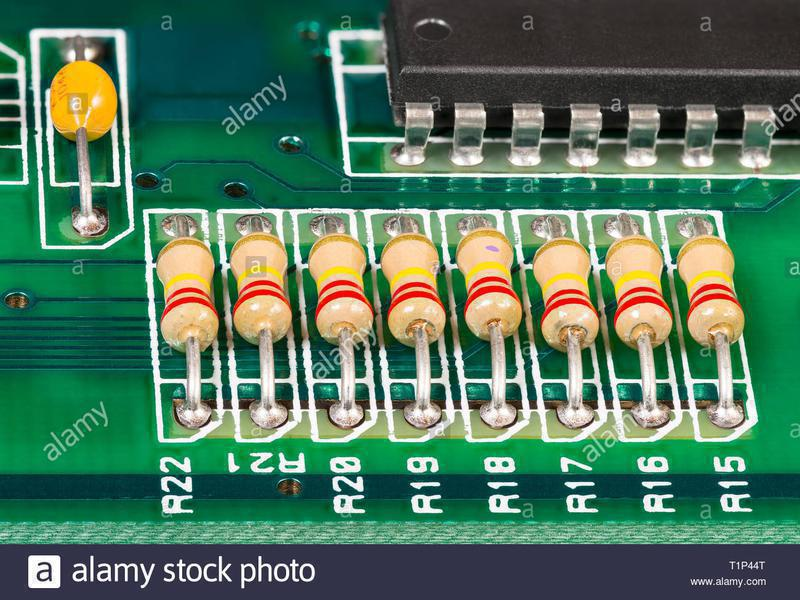resistor: (673, 233, 747, 349), (380, 226, 444, 360), (150, 230, 217, 354), (603, 233, 674, 350), (532, 234, 596, 353), (456, 226, 521, 339), (311, 227, 368, 355), (228, 237, 294, 346)
